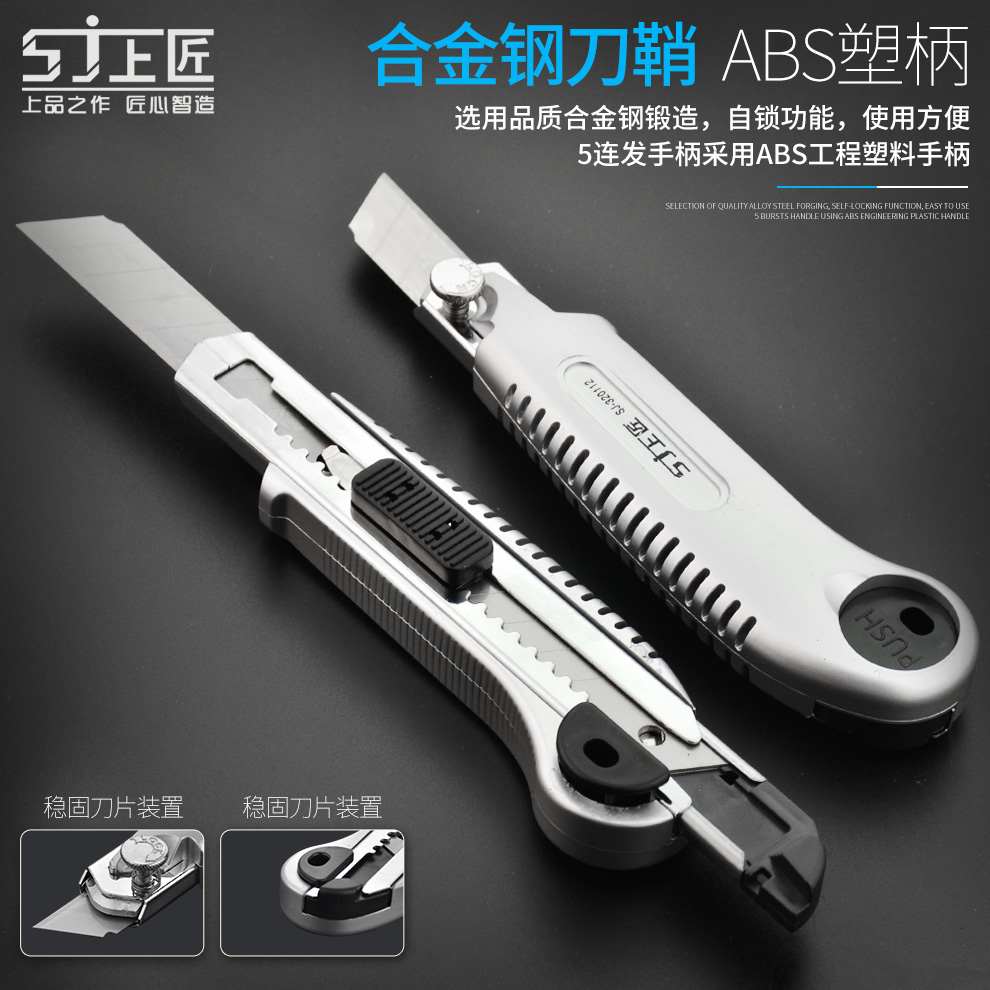cutter: (10, 210, 835, 935), (340, 169, 982, 760)
